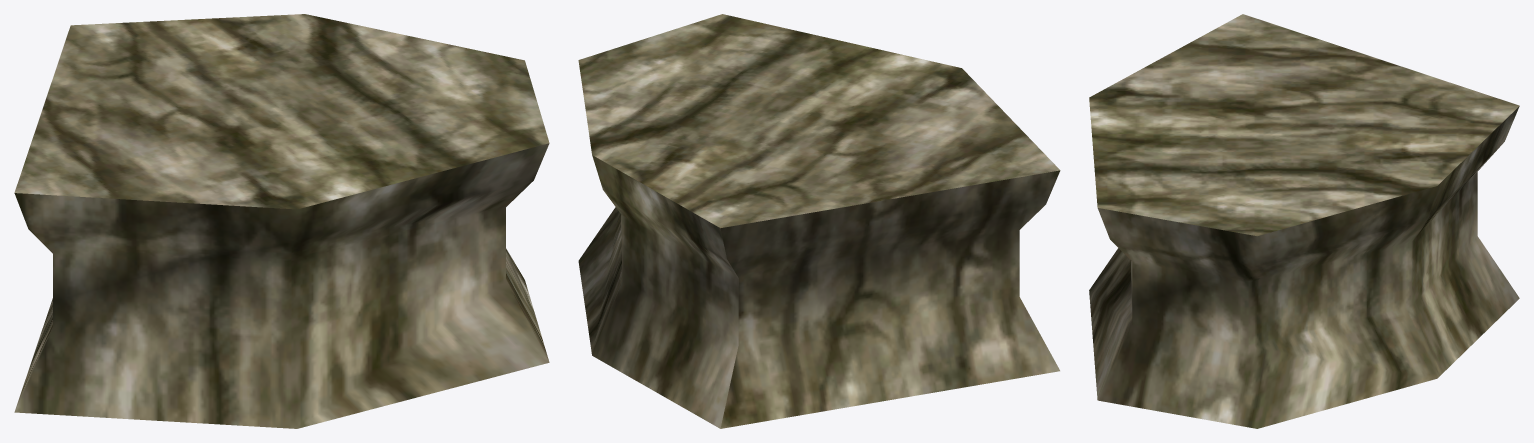
Rendered from CB_NEWPLAYSURFACE_CB_PLAYSURFACE151.fbx.
3 views of the same model, side by side, from view 1: azimuth 30°, elevation 25°; view 2: azimuth 150°, elevation 25°; view 3: azimuth 270°, elevation 25° (orthographic). The views are drawn at different scales.
Visible parts, largest first — view 1: CB_NEWPLAYSURFACE_CB_PLAYSURFACE151; view 2: CB_NEWPLAYSURFACE_CB_PLAYSURFACE151; view 3: CB_NEWPLAYSURFACE_CB_PLAYSURFACE151.
Boxes of the visible parts, left/top/right/bottom form: CB_NEWPLAYSURFACE_CB_PLAYSURFACE151: left=14, top=14, right=549, bottom=428; CB_NEWPLAYSURFACE_CB_PLAYSURFACE151: left=578, top=14, right=1060, bottom=428; CB_NEWPLAYSURFACE_CB_PLAYSURFACE151: left=1089, top=14, right=1519, bottom=428.
Bounding box in the file's own units: 74197 × 30000 × 60767.
Materials: 2 (2 with a texture image).
